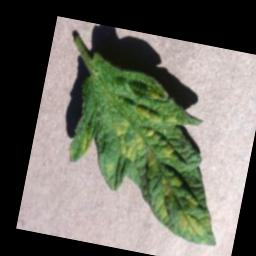Leaf_Mold: (54, 51, 247, 248)
